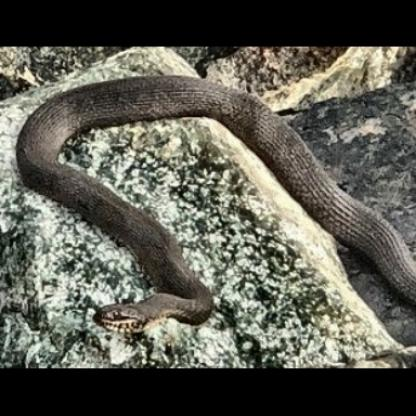Snake: (5, 71, 416, 338)
